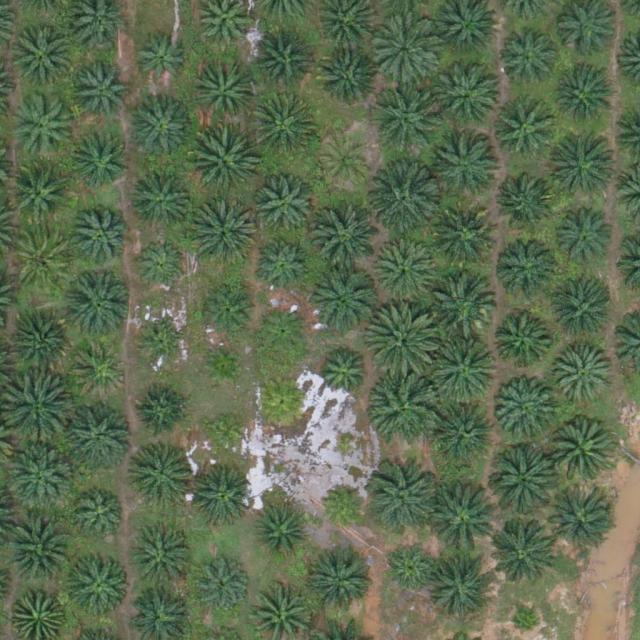Healthy: (369, 464, 440, 535), (427, 269, 498, 340), (369, 86, 440, 157), (370, 14, 440, 85), (8, 441, 78, 512), (64, 400, 134, 471), (547, 416, 617, 487), (487, 446, 557, 517), (485, 519, 555, 590), (427, 483, 497, 554), (429, 333, 499, 404), (368, 303, 438, 374), (371, 372, 442, 442), (549, 130, 619, 201), (369, 165, 440, 235), (64, 269, 134, 340), (311, 206, 381, 277), (308, 264, 378, 335), (3, 513, 73, 583), (545, 484, 615, 554), (430, 552, 500, 622), (250, 92, 320, 162), (188, 198, 258, 268), (189, 128, 259, 198), (494, 378, 557, 441), (497, 234, 560, 297), (495, 169, 558, 232), (129, 99, 192, 162), (130, 169, 193, 232), (69, 206, 132, 269), (10, 93, 73, 156), (12, 229, 75, 292), (13, 25, 75, 88), (248, 29, 310, 92), (9, 313, 72, 375), (68, 552, 130, 615), (132, 529, 194, 592), (189, 466, 251, 529), (311, 548, 373, 611), (552, 284, 615, 346), (554, 345, 616, 408), (490, 311, 552, 374), (554, 66, 616, 129), (552, 206, 615, 268), (492, 97, 555, 159), (375, 241, 437, 304), (253, 174, 315, 237), (193, 61, 255, 124), (9, 161, 71, 224), (130, 443, 192, 505), (436, 402, 498, 464), (437, 65, 499, 127), (437, 138, 499, 200), (432, 209, 494, 271), (313, 46, 375, 108), (384, 543, 439, 598), (256, 304, 311, 359), (75, 489, 130, 544), (315, 346, 370, 401), (134, 240, 189, 295), (73, 135, 128, 190), (73, 67, 128, 122), (133, 34, 187, 89), (501, 31, 555, 86), (73, 343, 127, 398), (135, 383, 189, 438), (196, 556, 250, 611), (255, 506, 309, 561), (257, 239, 311, 294), (200, 285, 254, 340)
Small: (200, 342, 247, 390), (320, 482, 367, 529), (141, 324, 188, 371), (202, 410, 249, 457)
Yellow: (256, 374, 311, 430), (319, 136, 374, 191)
